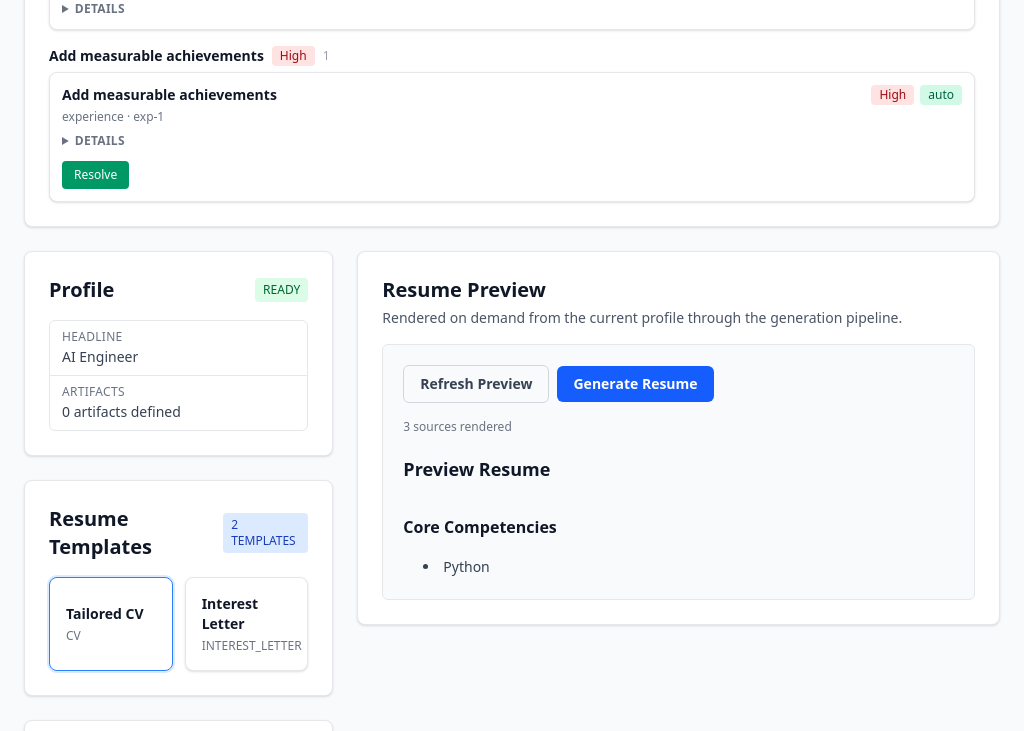
Test: ArtifactWorkspacePage › generate resume creates the artifact and shows the generated artifact preview
The image size is (1024, 731).
(page scrolled)
Expected: the heading "Preview Resume" is shown, [403, 457, 550, 481]
Click the button "Generate Resume".
click(636, 384)  # box [558, 366, 714, 402]
(page scrolled)
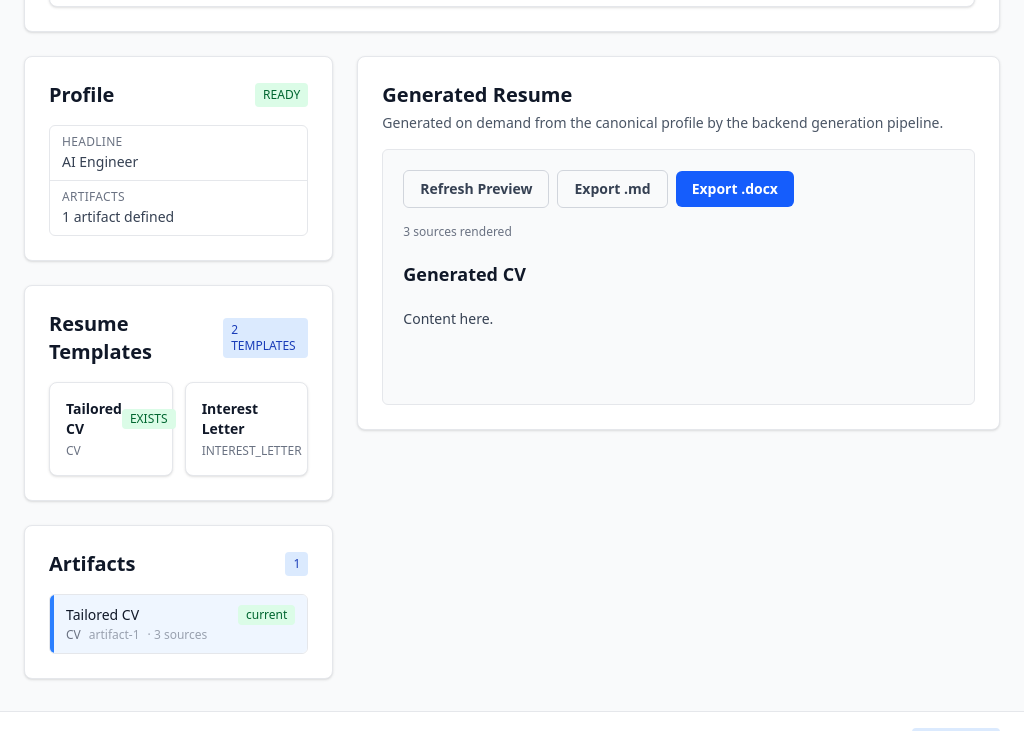
Expected: the heading "Generated CV" is shown, [403, 262, 526, 286]
Expected: the text "Content here." is shown, [403, 309, 493, 328]
Expected: the text "artifact-1" is shown, [89, 627, 140, 643]
